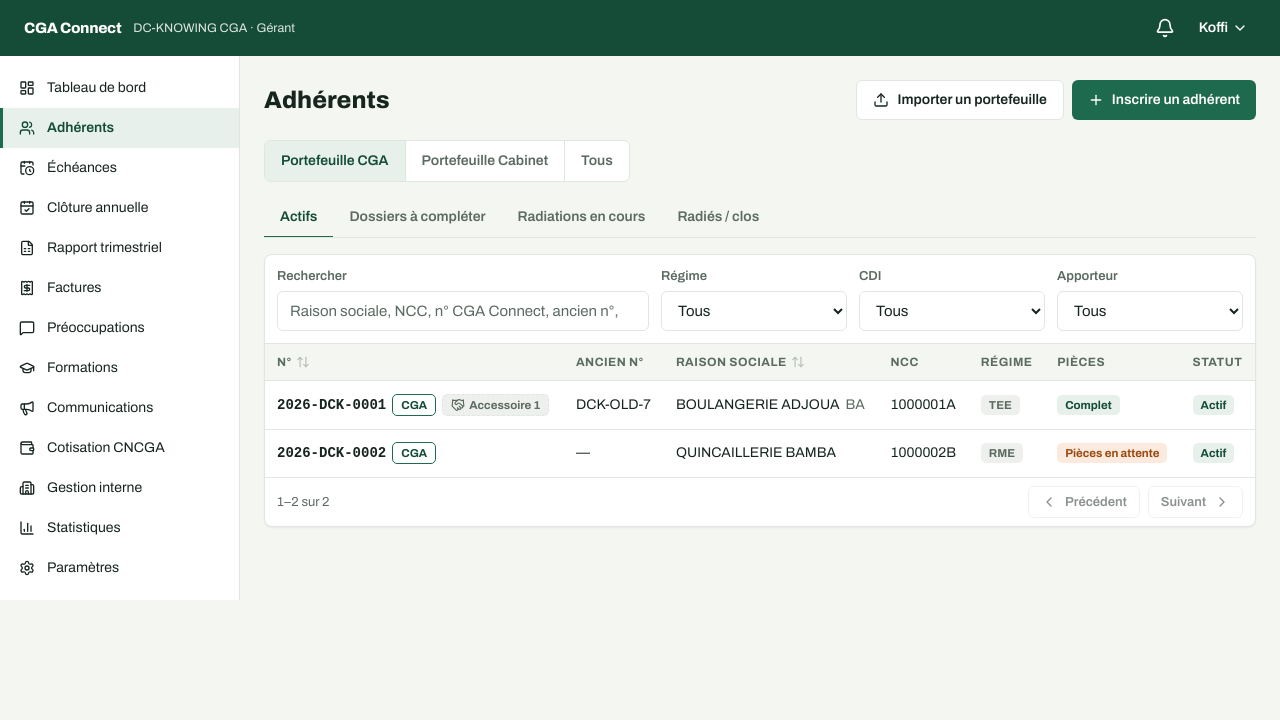
Test: /cga/adherents · liste des adhérents (F-ADH-01) › filtres régime, CDI et apporteur ; l’apporteur disparaît hors du portefeuille CGA (RG-PTF-06)
The width and height of the screenshot is (1280, 720).
Expected: the table named "Adhérents du centre" is shown, [265,344,1255,477]
Select "RME" in the dropdown labelled "Régime": (754, 311) [661,291,847,331]
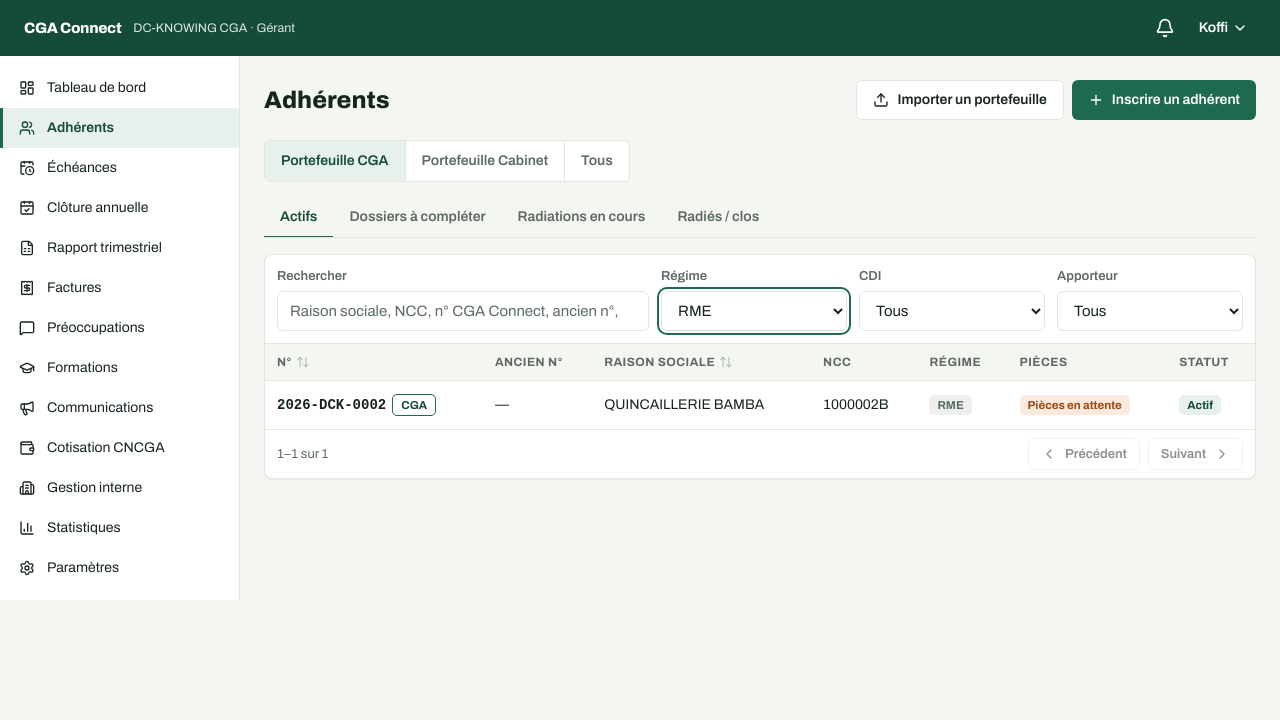
Expected: the table named "Adhérents du centre" is shown, [265,344,1255,429]
Select "Tous" in the dropdown labelled "Régime": (754, 311) [661,291,847,331]
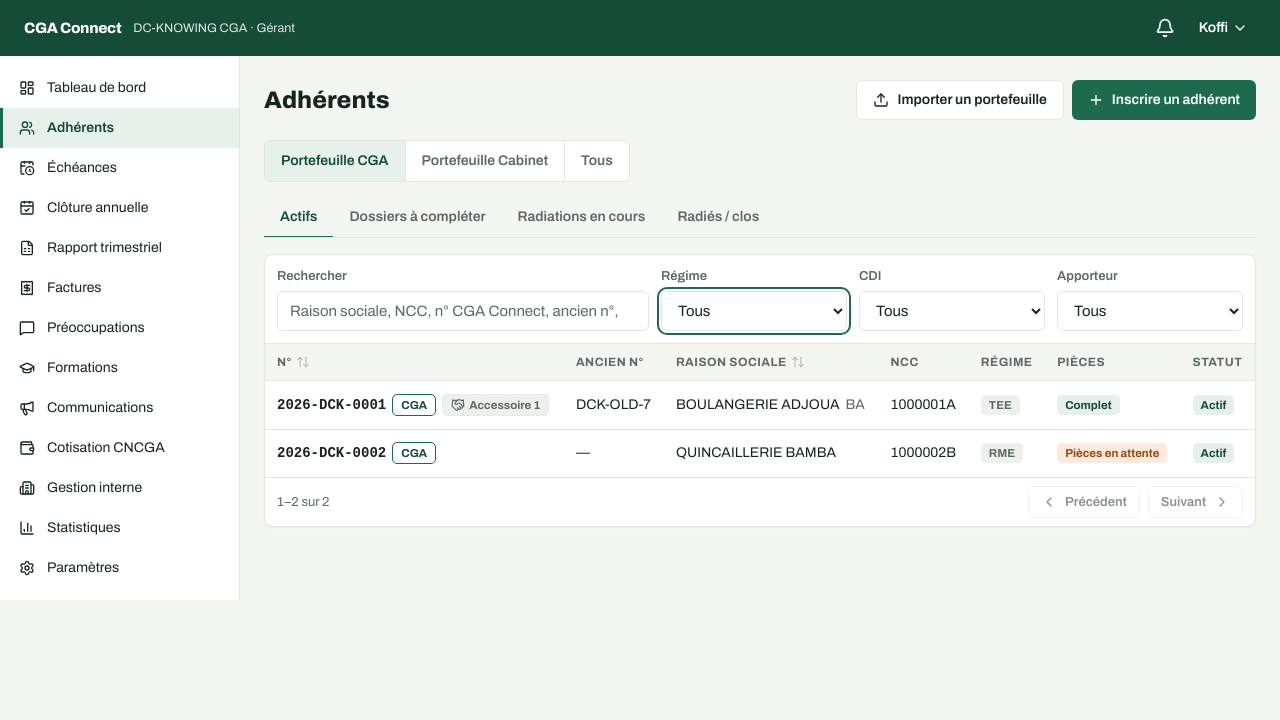
Select "CDI Plateau (démonstration)" in the dropdown labelled "CDI": (952, 311) [859,291,1045,331]
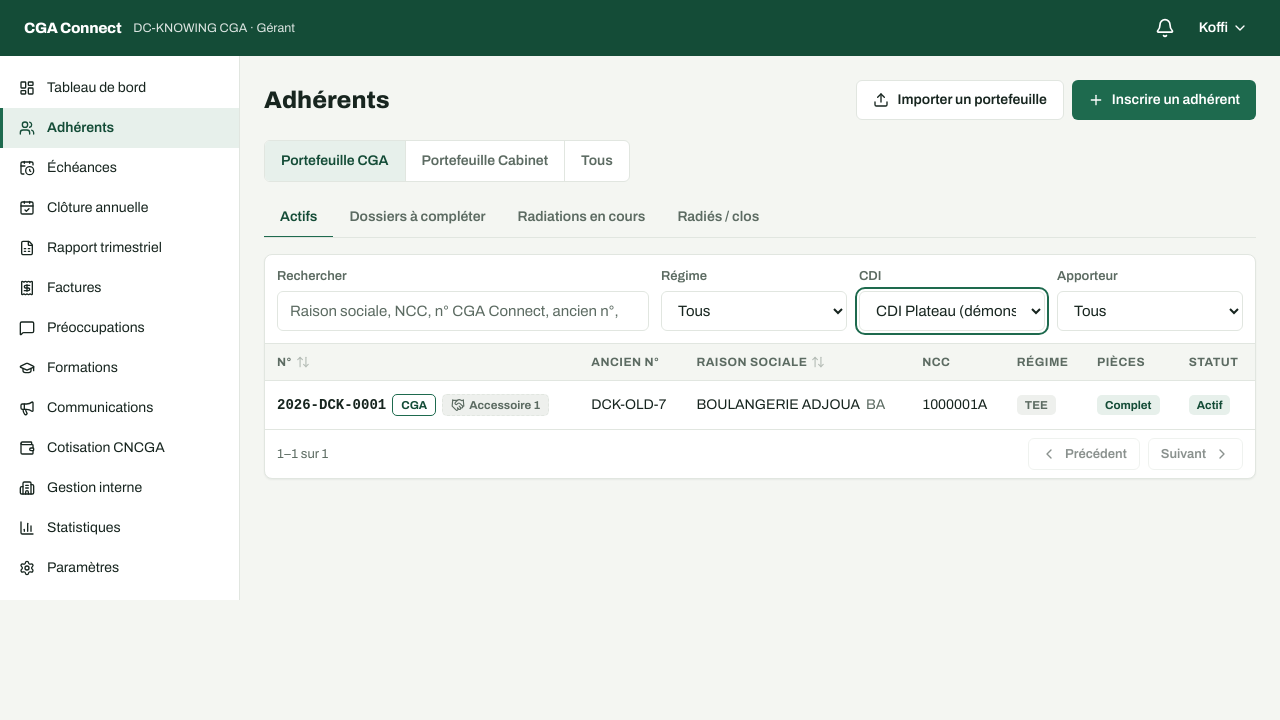
Expected: the table named "Adhérents du centre" is shown, [265,344,1255,429]
Select "Tous" in the dropdown labelled "CDI": (952, 311) [859,291,1045,331]
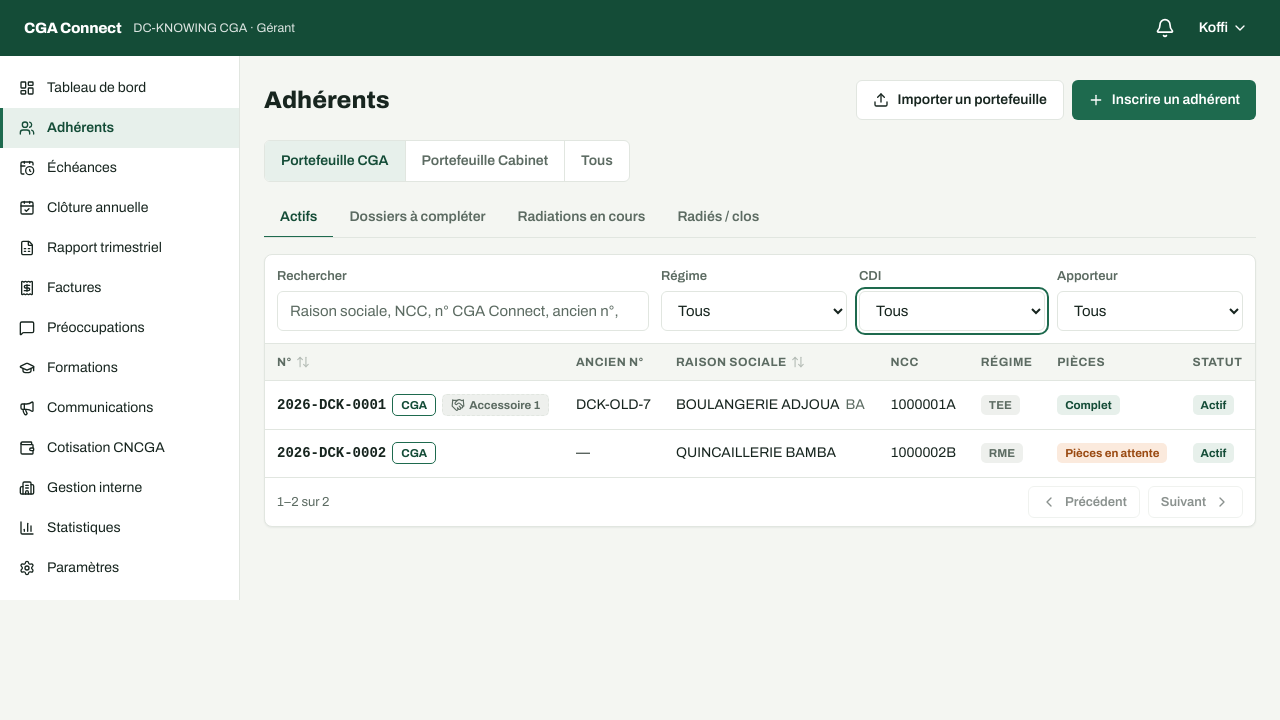
Select "Accessoire 1 · Kossonou Apporteur" in the dropdown labelled "Apporteur": (1150, 311) [1057,291,1243,331]
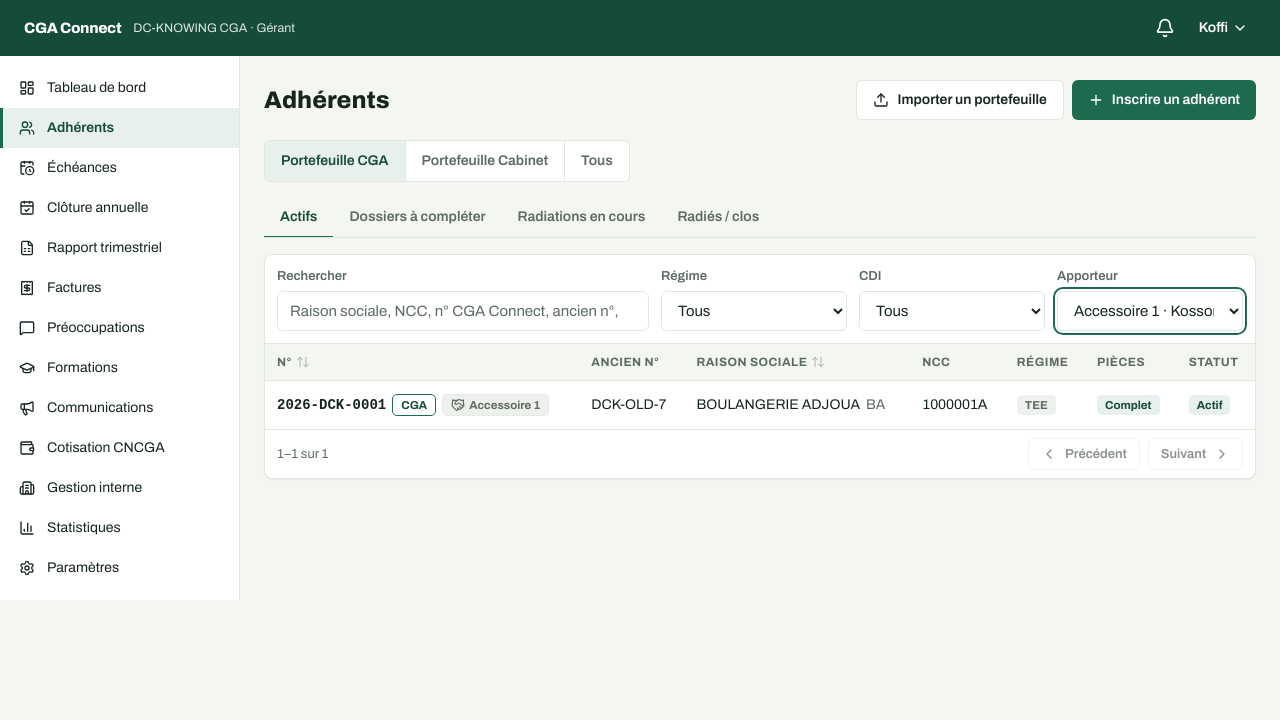
Expected: the table named "Adhérents du centre" is shown, [265,344,1255,429]
Click the radio button labelled "Portefeuille Cabinet": (484, 161) [405,141,564,181]
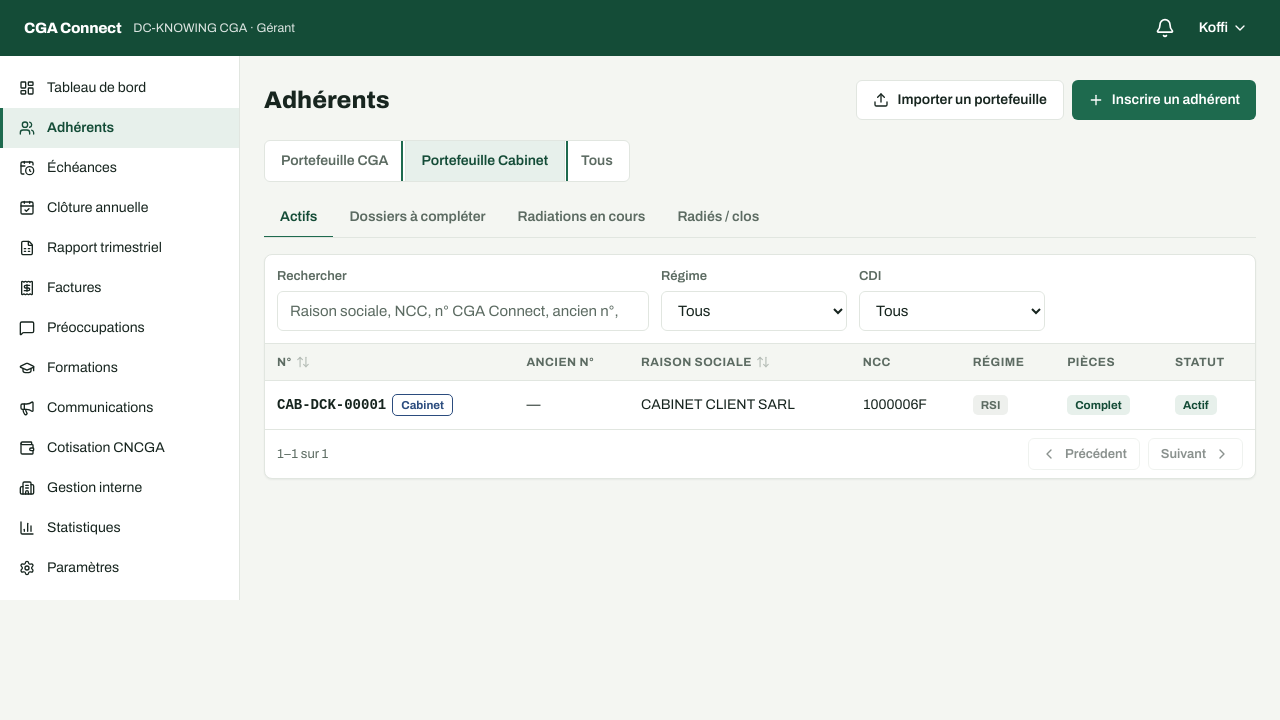
Expected: the table named "Adhérents du centre" is shown, [265,344,1255,429]
Expected: the label labelled "Apporteur" is gone
